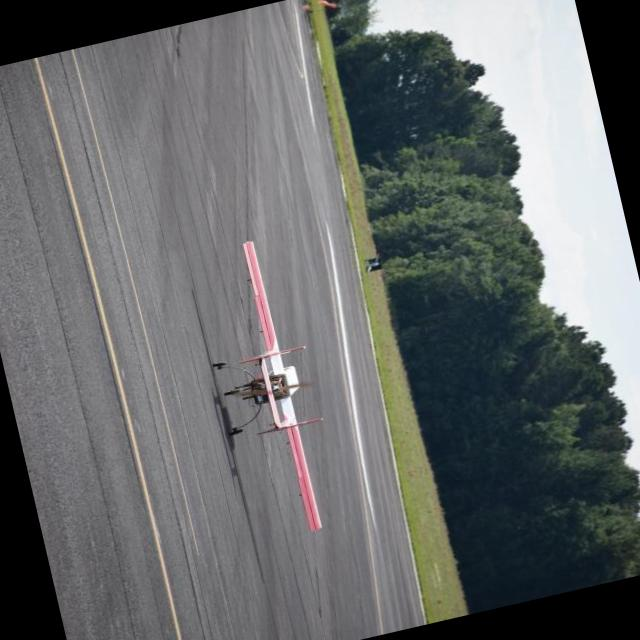UAV: (179, 255, 342, 522)
